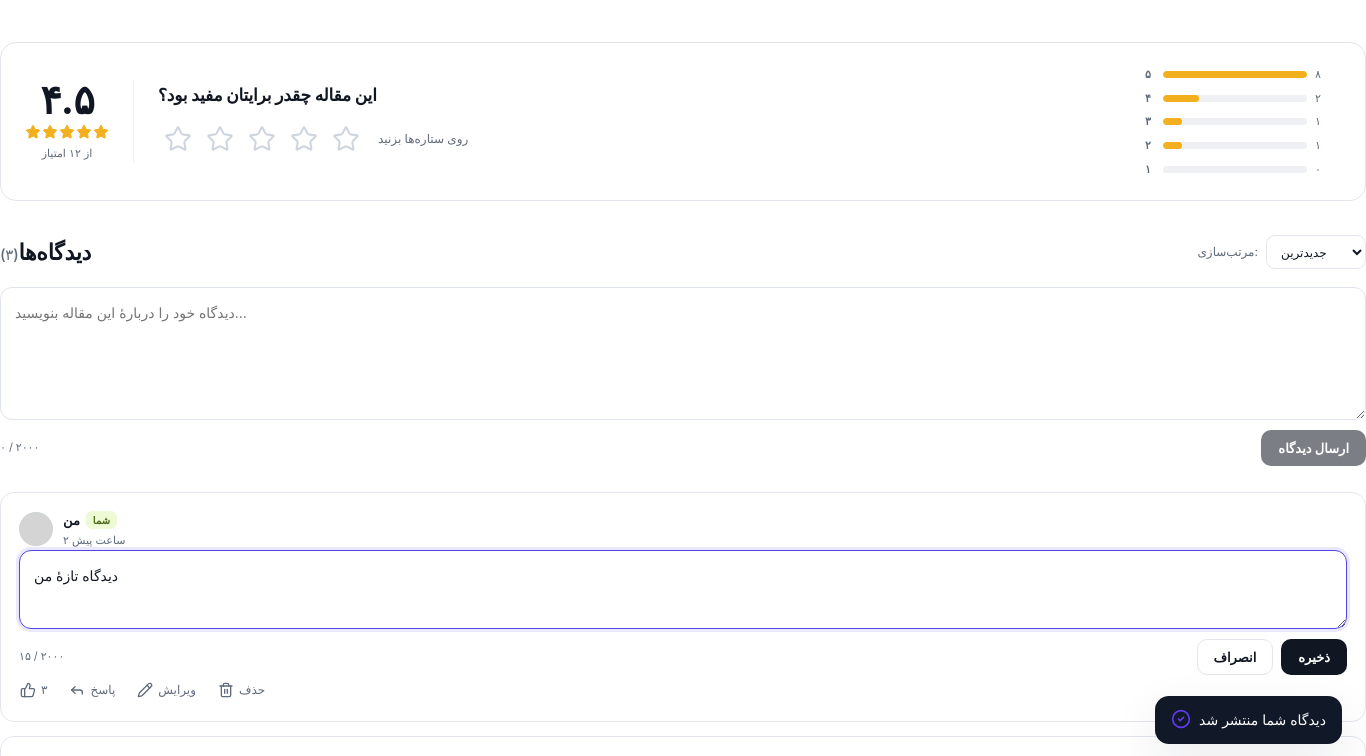
Test case: ArticleEngagement — signed-in reader › posts a comment, a reply, edits and withdraws its own comment
Earlier steps of the test are not shown.
Replace the text in the 2nd text box with "ویرایش‌شده" at (683, 589), box [19,550,1347,629]
Submit the form with test id "blog-comment-edit-c3", box [19,550,1347,675]
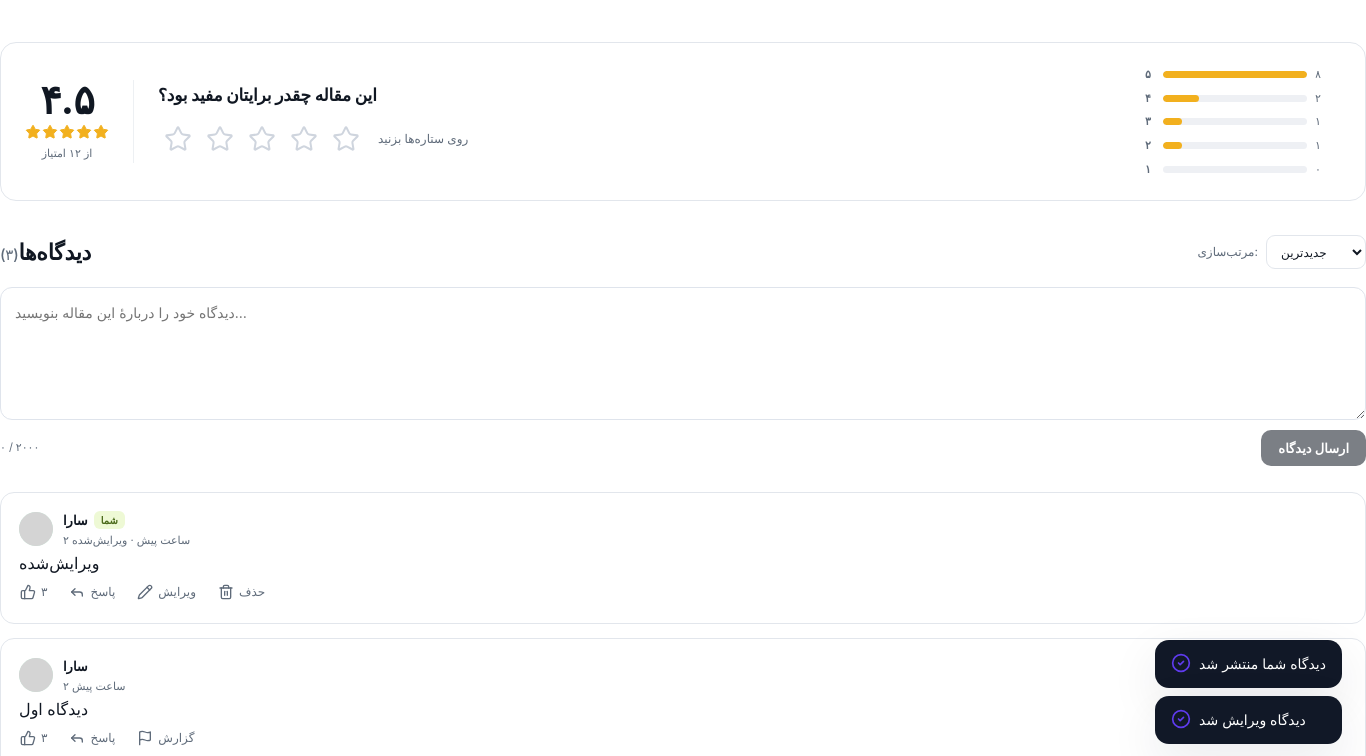
expect the text "ویرایش‌شده" is shown: met, box [19,553,100,573]
// Reply under someone else's comment.
Click the button with test id "blog-comment-reply" below "دیدگاه اول" at (92, 738), box [60,723,124,753]
(page scrolled)
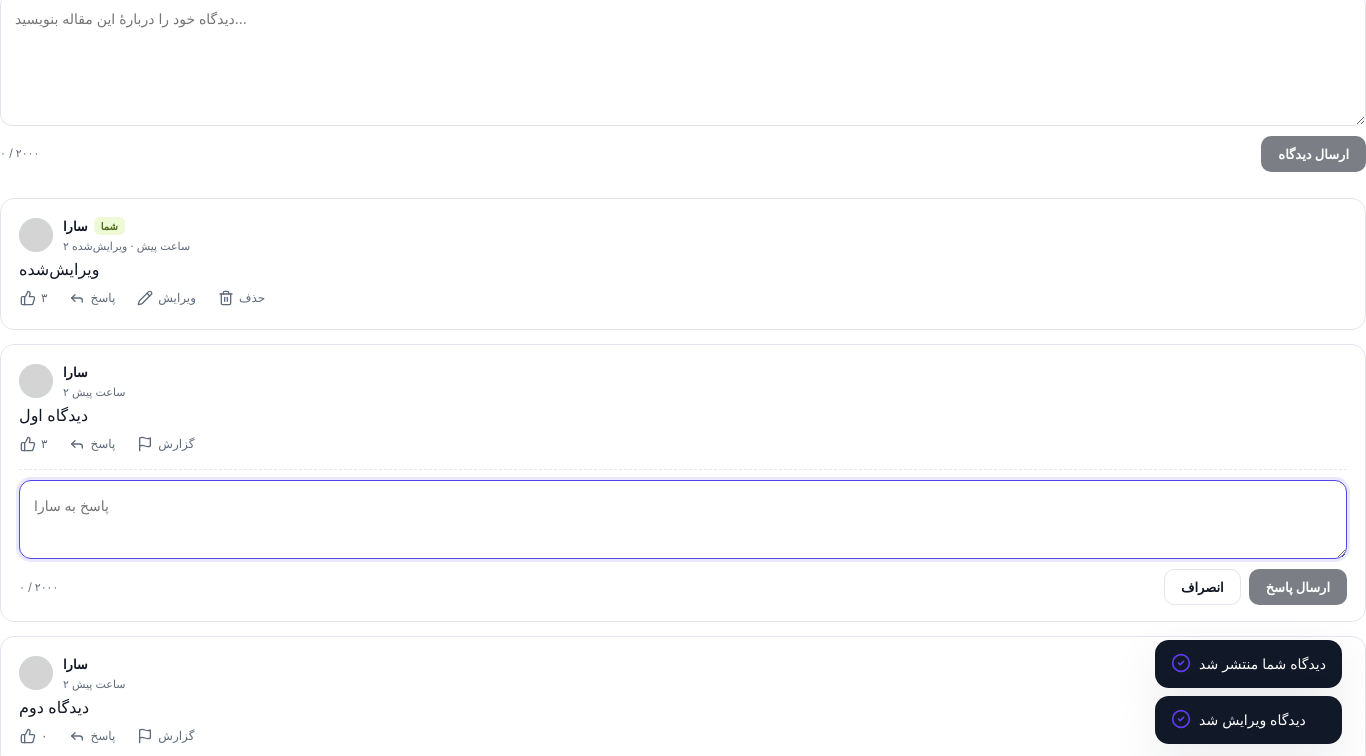
Type "پاسخ من" into the text box with placeholder "پاسخ به سارا" at (683, 519), box [19,480,1347,559]
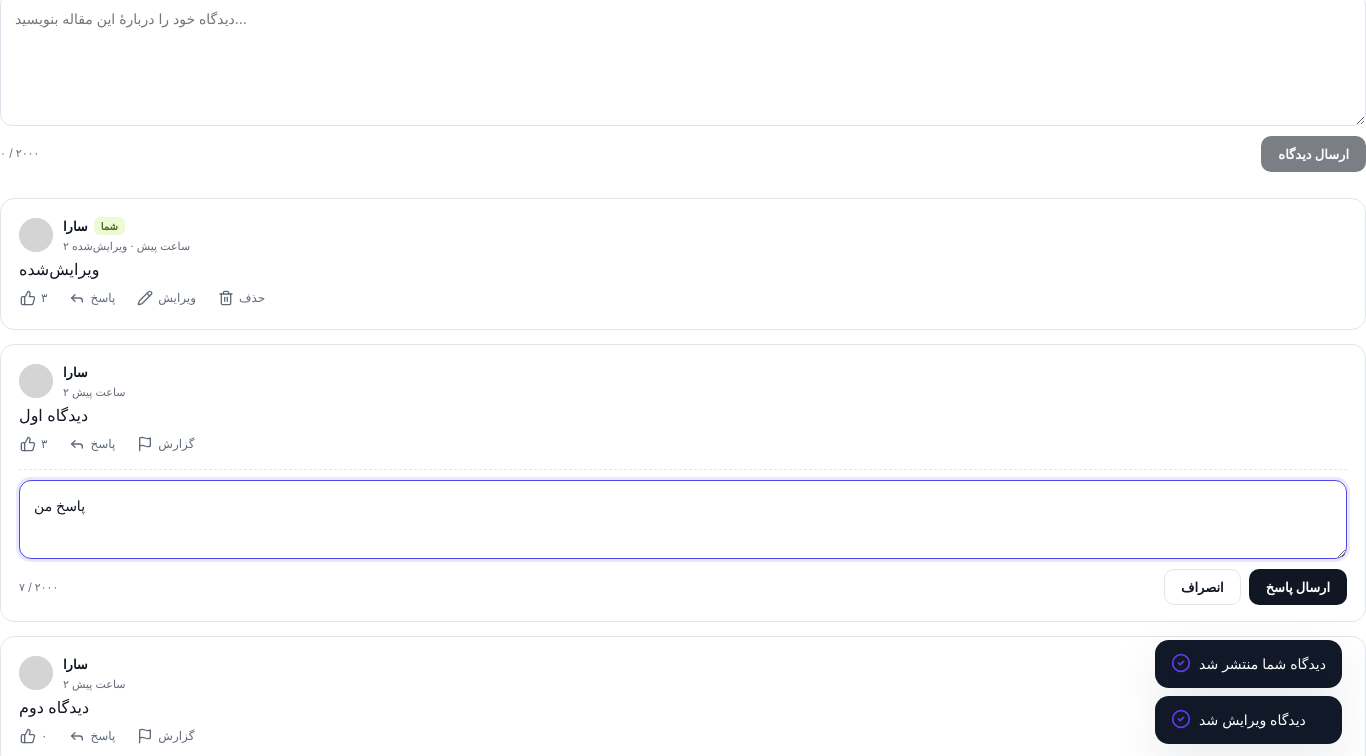
Submit the form with test id "blog-reply-form-c1", box [19,480,1347,605]
(page scrolled)
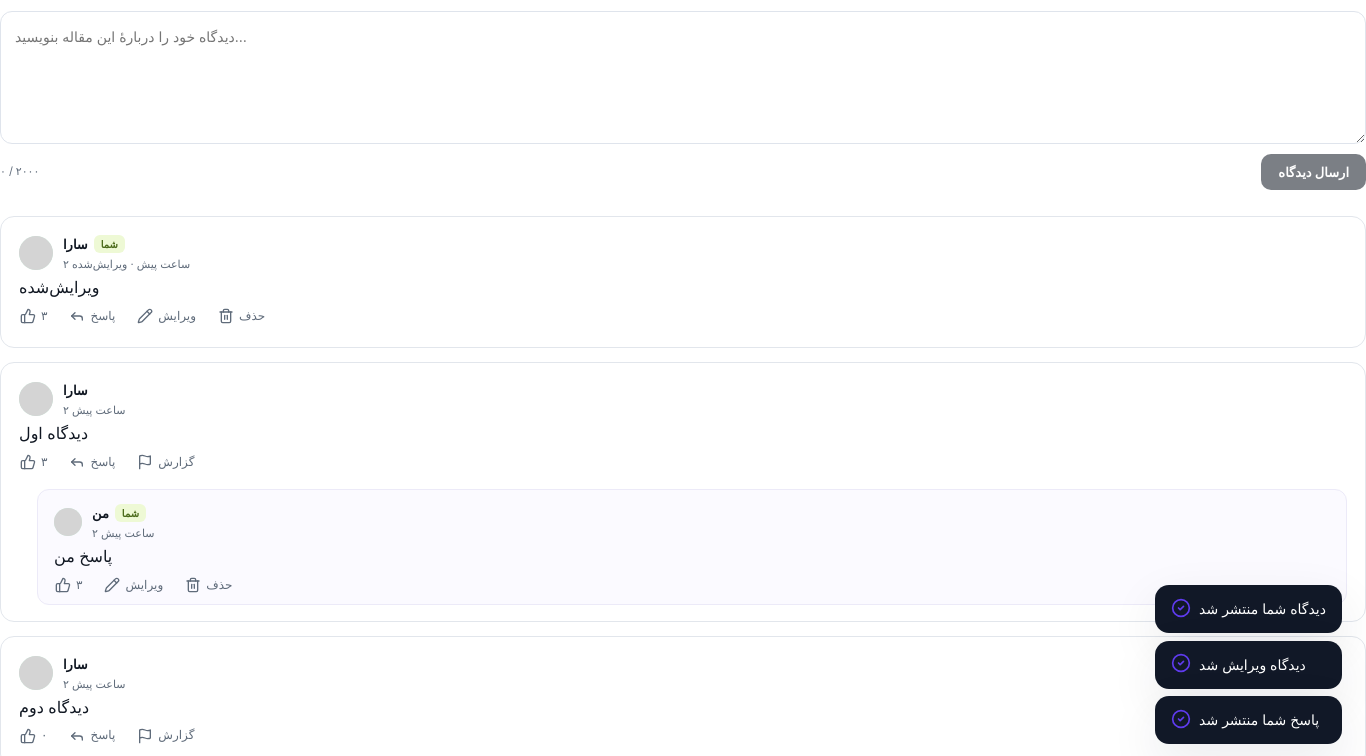
expect the text "پاسخ من" is shown: met, box [54,546,112,566]
// Withdraw own top-level comment (confirmation dialog).
Click the button with test id "blog-comment-delete" below "· ویرایش‌شده" at (242, 316), box [209,301,274,331]
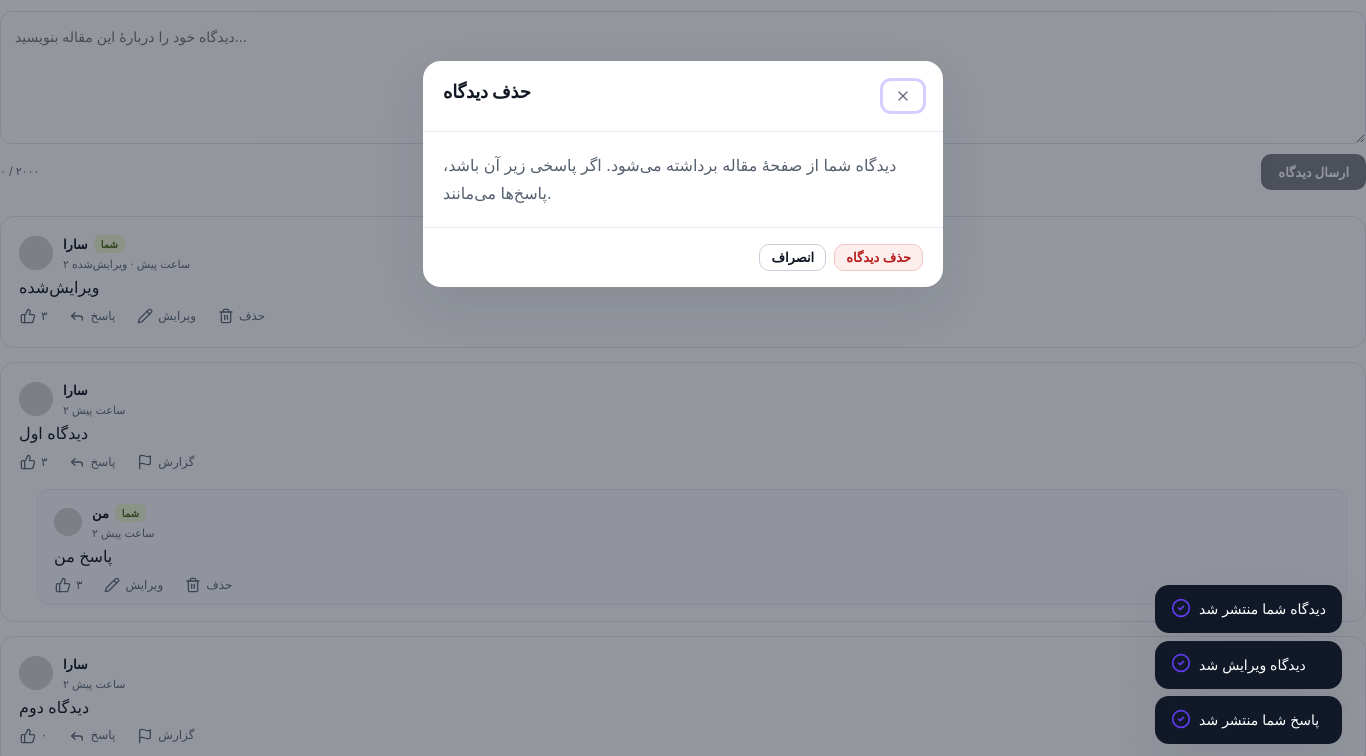
Click the button "حذف دیدگاه" at (879, 257), box [834,244,923,271]
(page scrolled)
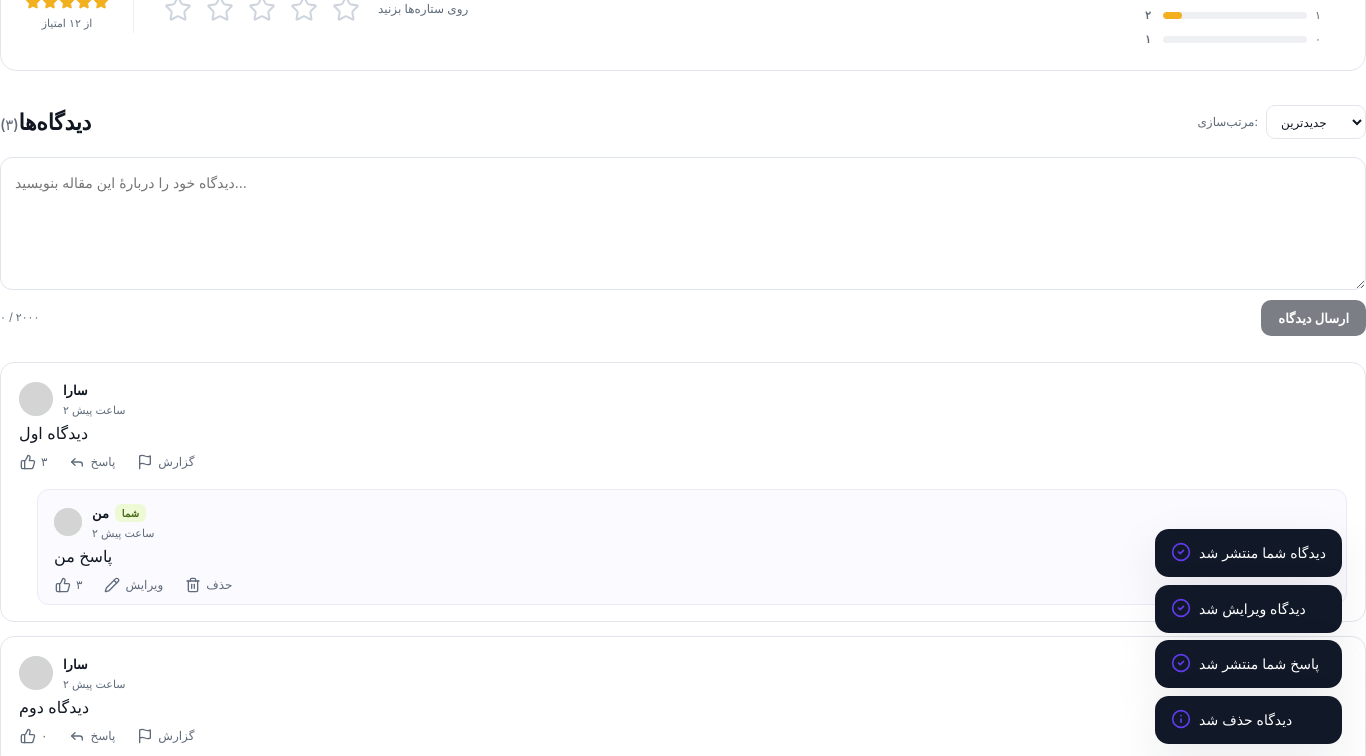
expect the text "ویرایش‌شده" is gone: met
